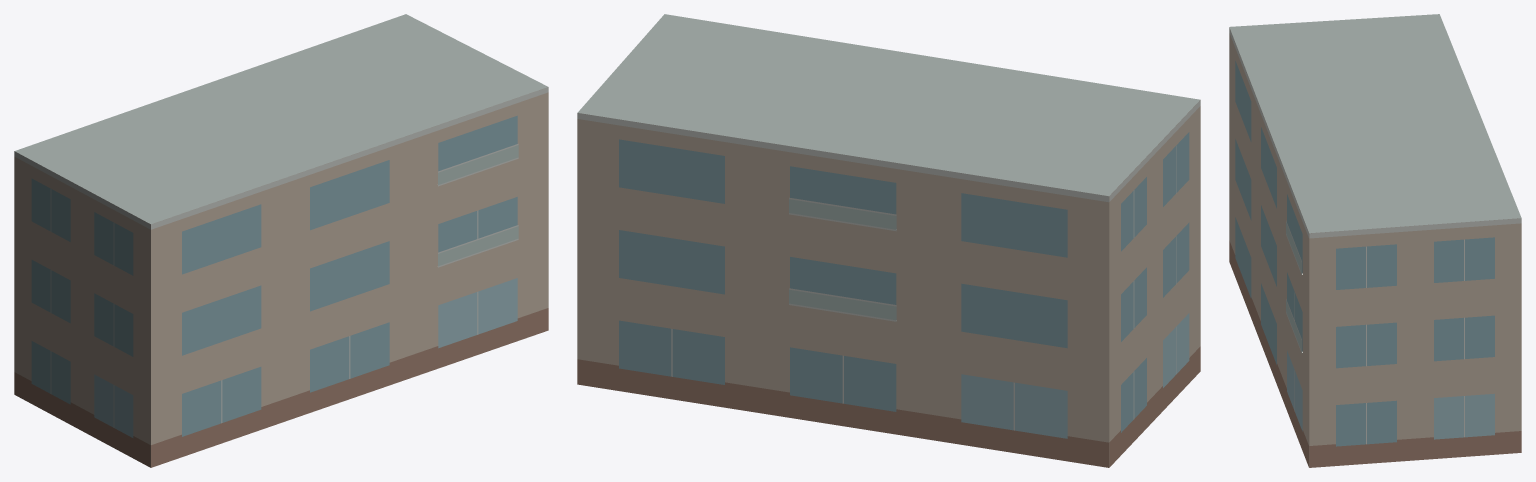
Rendered from survey-upis-32801270.glb.
3 views of the same model, side by side, from view 1: azimuth 30°, elevation 25°; view 2: azimuth 150°, elevation 25°; view 3: azimuth 270°, elevation 25° (orthographic). The views are drawn at different scales.
Parts seen in each view (by area): view 1: survey-upis-32801270.tmp; view 2: survey-upis-32801270.tmp; view 3: survey-upis-32801270.tmp.
Boxes of the visible parts, x1,y1,x2,y2 form: survey-upis-32801270.tmp: (14,14,548,467); survey-upis-32801270.tmp: (577,14,1200,467); survey-upis-32801270.tmp: (1229,14,1521,467).
Size of the model in its own units: 21.85 by 10.9 by 12.32.
